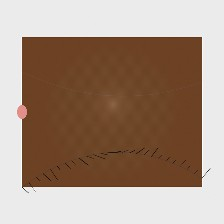pinguecula_lesion: (22, 101, 62, 133)
